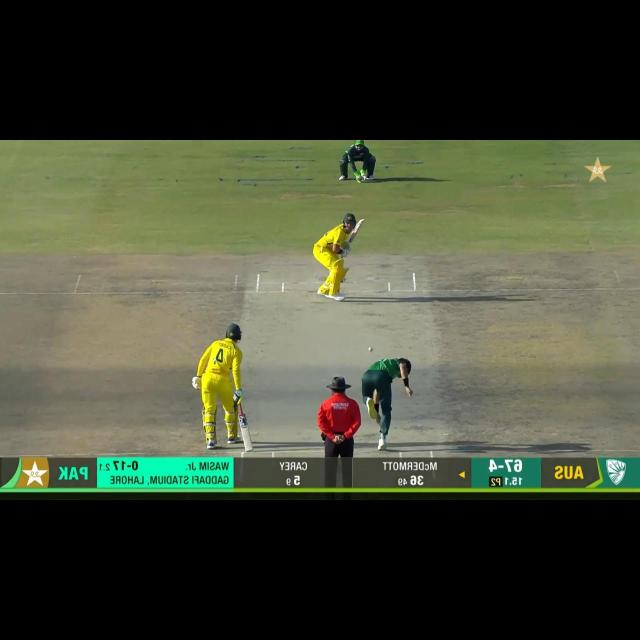bat: (238, 413, 257, 452), (348, 217, 366, 244)
toe: (243, 443, 254, 452), (358, 218, 366, 225)
